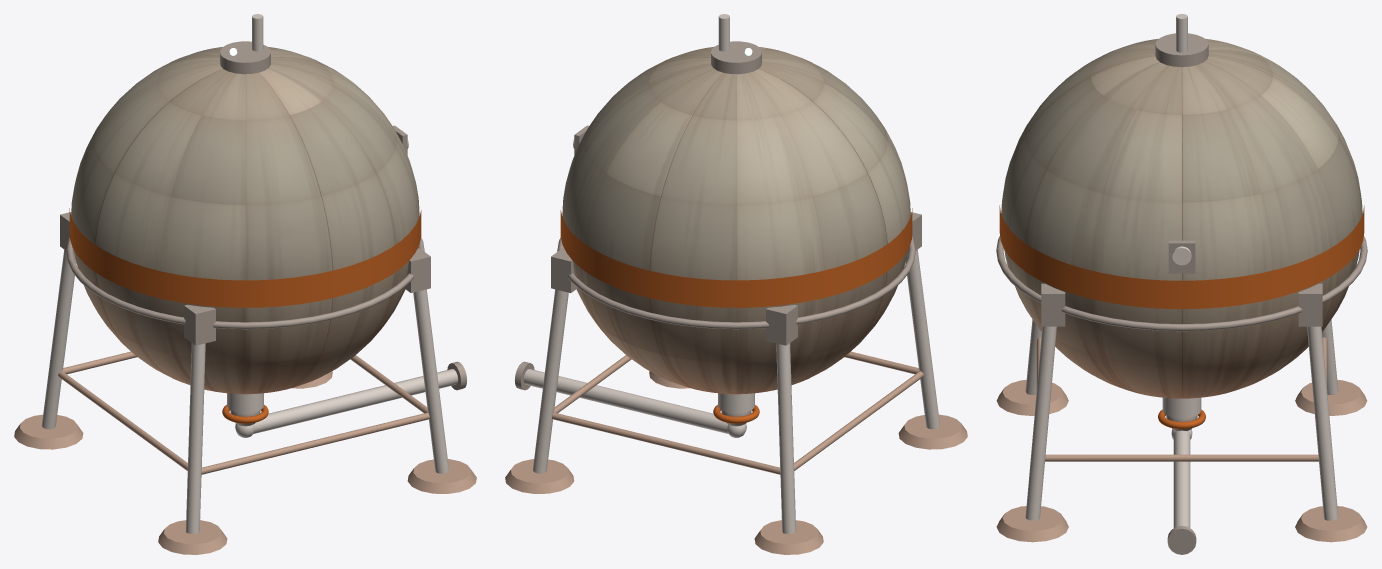
The model's file is E08_sphere_tank_methane.glb.
3 views of the same model, side by side, from view 1: azimuth 30°, elevation 25°; view 2: azimuth 150°, elevation 25°; view 3: azimuth 270°, elevation 25° (orthographic). The views are drawn at different scales.
Visible parts, largest first — view 1: tank, equator_band, leg (×3), footpad (×3), leg_tie (×3), outlet_pipe, leg_ring, leg_bracket (×2), top_manhole, bottom_outlet; view 2: tank, equator_band, leg (×3), footpad (×3), leg_tie (×3), outlet_pipe, leg_ring, leg_bracket (×2), top_manhole, bottom_outlet; view 3: tank, equator_band, leg (×4), footpad (×4), leg_ring, leg_tie, leg_bracket (×2), outlet_pipe, top_manhole, bottom_outlet, outlet_flange, gauge_box (+1 smaller).
Boxes of the visible parts, box(x1,y1,x2,y2) form: tank: box(71, 47, 419, 394); equator_band: box(69, 208, 421, 307); leg (×3): box(41, 250, 448, 533); footpad (×3): box(14, 414, 476, 554); leg_tie (×3): box(58, 355, 429, 474); outlet_pipe: box(253, 369, 458, 433); leg_ring: box(66, 237, 424, 329); leg_bracket (×2): box(184, 248, 430, 345); top_manhole: box(220, 41, 270, 74); bottom_outlet: box(227, 393, 263, 413); tank: box(562, 47, 910, 394); equator_band: box(560, 208, 912, 307); leg (×3): box(533, 250, 940, 533); footpad (×3): box(505, 414, 967, 554); leg_tie (×3): box(552, 355, 923, 474); outlet_pipe: box(523, 369, 728, 433); leg_ring: box(557, 237, 915, 329); leg_bracket (×2): box(551, 248, 797, 345); top_manhole: box(711, 41, 761, 74); bottom_outlet: box(718, 393, 754, 413); tank: box(1001, 38, 1362, 398); equator_band: box(999, 205, 1364, 309); leg (×4): box(1025, 319, 1338, 520); footpad (×4): box(996, 380, 1367, 542); leg_ring: box(996, 236, 1367, 331); leg_tie: box(1045, 454, 1318, 461); leg_bracket (×2): box(1041, 283, 1322, 326); outlet_pipe: box(1173, 430, 1190, 527); top_manhole: box(1155, 33, 1208, 67); bottom_outlet: box(1162, 397, 1201, 418); outlet_flange: box(1167, 525, 1196, 554); gauge_box: box(1168, 240, 1195, 273).
Bounding box in the file's own units: 3.67 × 4.15 × 3.08.
7 materials, 1 textured.
